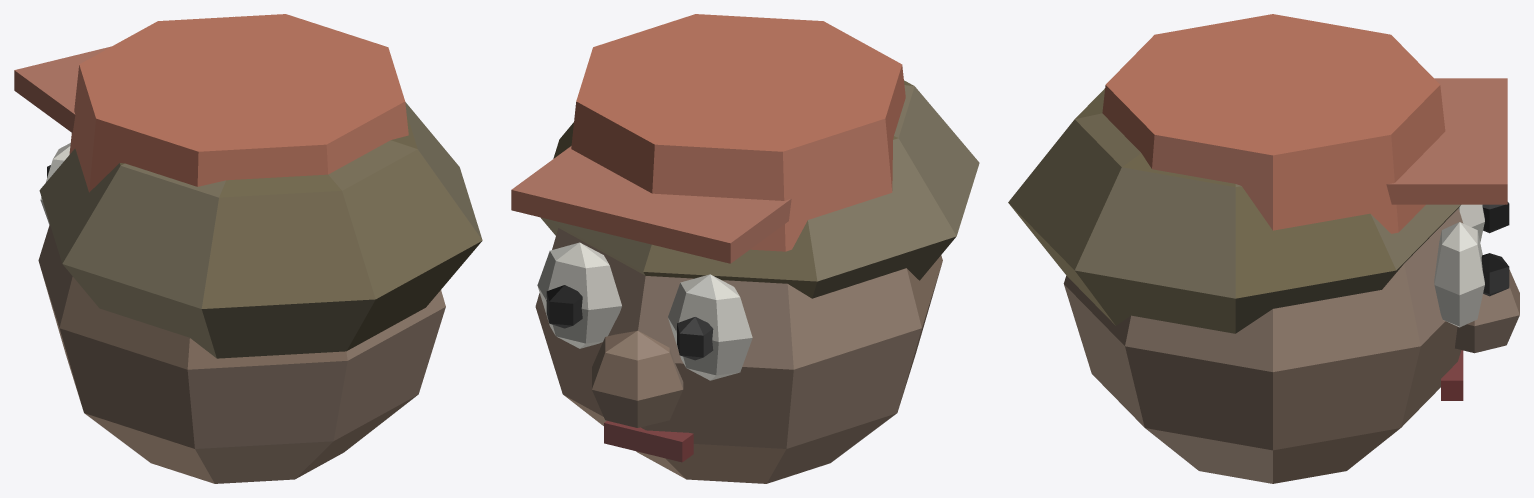
File: head_human.glb
The picture shows the model from 3 angles, left to right: view 1: azimuth 30°, elevation 25°; view 2: azimuth 150°, elevation 25°; view 3: azimuth 270°, elevation 25°; orthographic projection.
Parts seen in each view (by area): view 1: head_human2; view 2: head_human2; view 3: head_human2.
Boxes of the visible parts, x1=… form: head_human2: x1=14, y1=14, x2=482, y2=483; head_human2: x1=511, y1=14, x2=979, y2=483; head_human2: x1=1008, y1=14, x2=1519, y2=483.
Bounding box in the file's own units: 0.609 × 0.56 × 0.6851.
